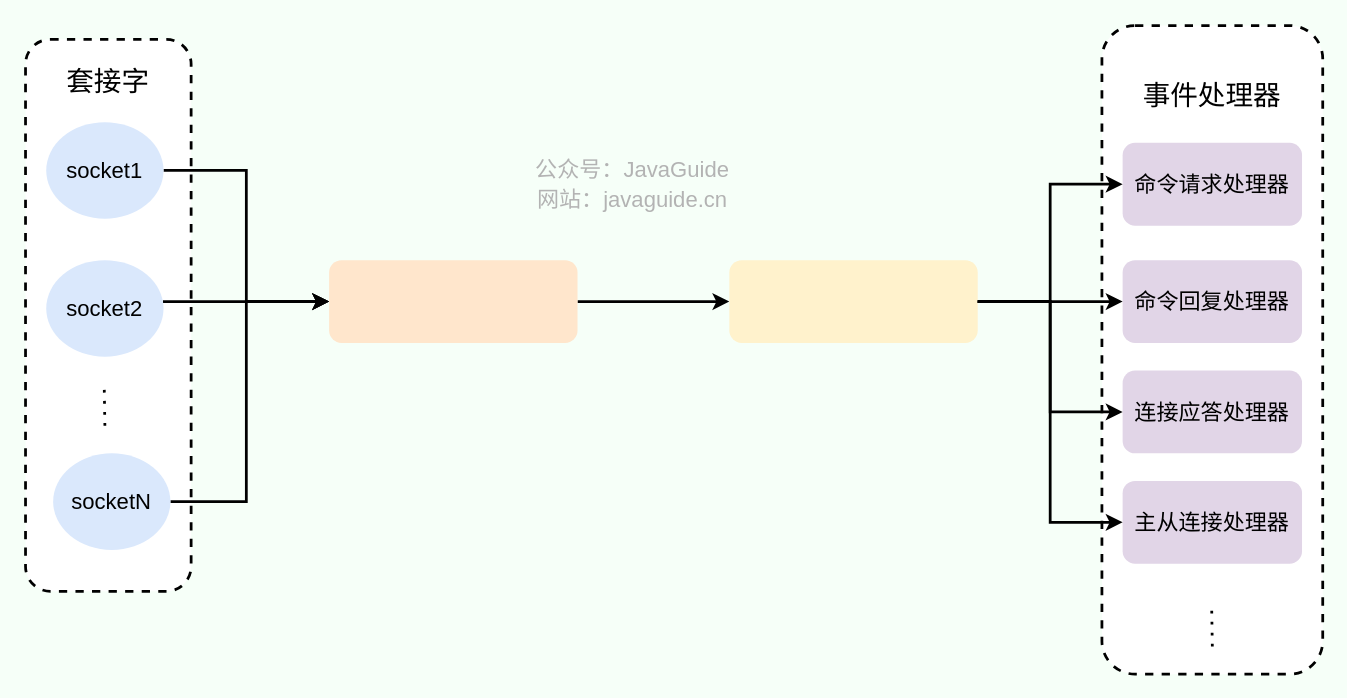
Some shapes in this 1347 by 698 pixel diagram are drawn without their labels. The shapes that lost their labels are listed below. From the top down, each one's centre as x and y in pixels, then its label:
the point at 452,300: I/O 多路复用程序
the point at 853,300: 文件事件分派器
